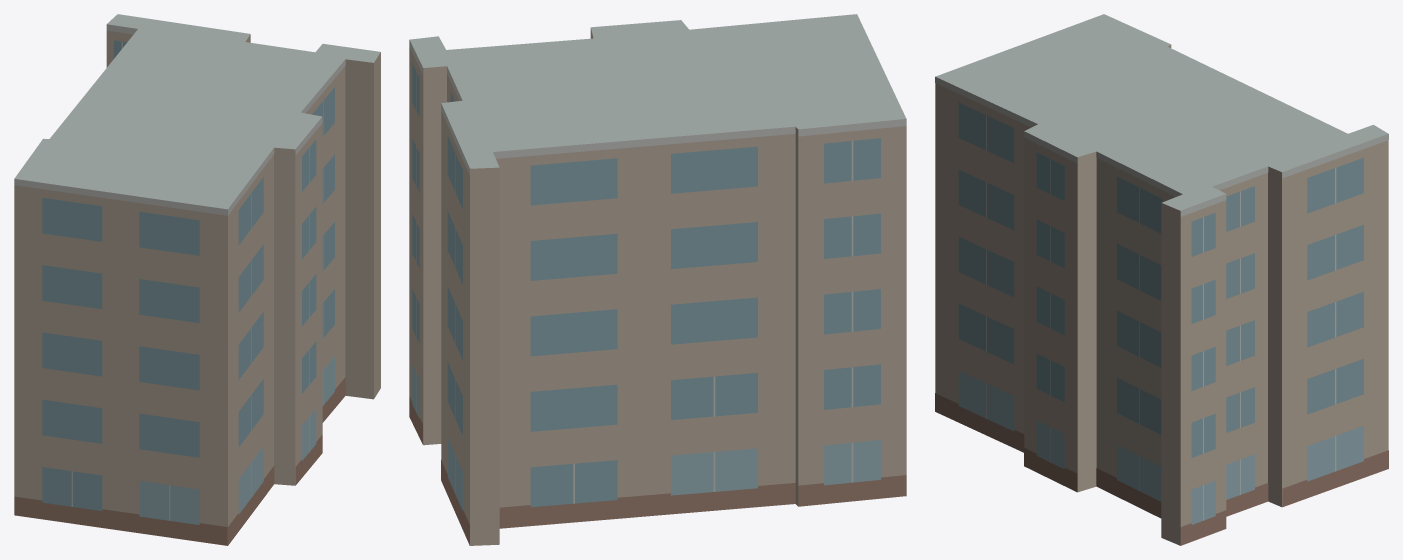
The model's file is survey-upis-32677224.glb.
The picture shows the model from 3 angles, left to right: view 1: azimuth 30°, elevation 25°; view 2: azimuth 150°, elevation 25°; view 3: azimuth 270°, elevation 25°; orthographic projection. The views are drawn at different scales.
Visible parts, largest first — view 1: survey-upis-32677224.tmp; view 2: survey-upis-32677224.tmp; view 3: survey-upis-32677224.tmp.
Part boxes in pixels (x1=…): survey-upis-32677224.tmp: x1=14, y1=14, x2=380, y2=545; survey-upis-32677224.tmp: x1=409, y1=14, x2=906, y2=545; survey-upis-32677224.tmp: x1=935, y1=14, x2=1388, y2=545.
Size of the model in its own units: 16.31 by 12.94 by 15.88.
